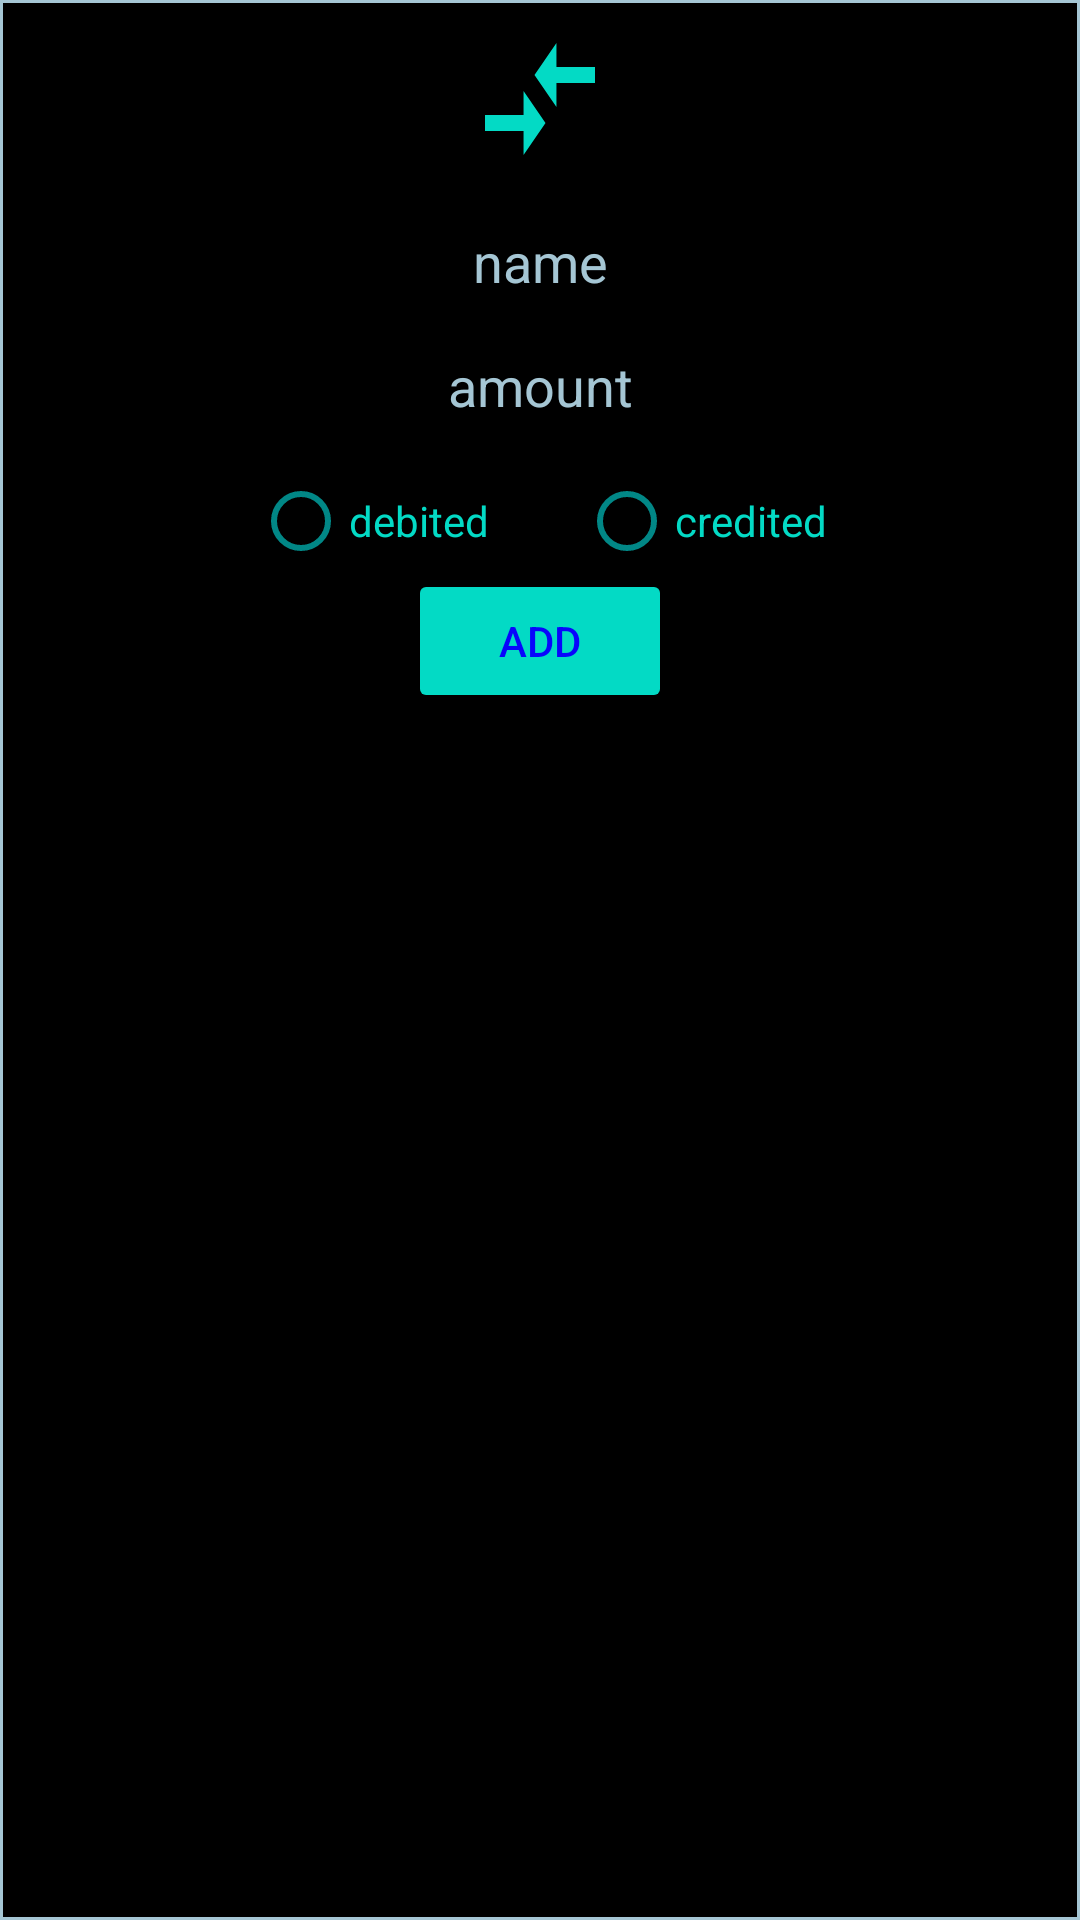

Where to tap for icons on this 1080px x 1920px app screen, as (x=x, y=y):
compare arrows: (x=540, y=99)
